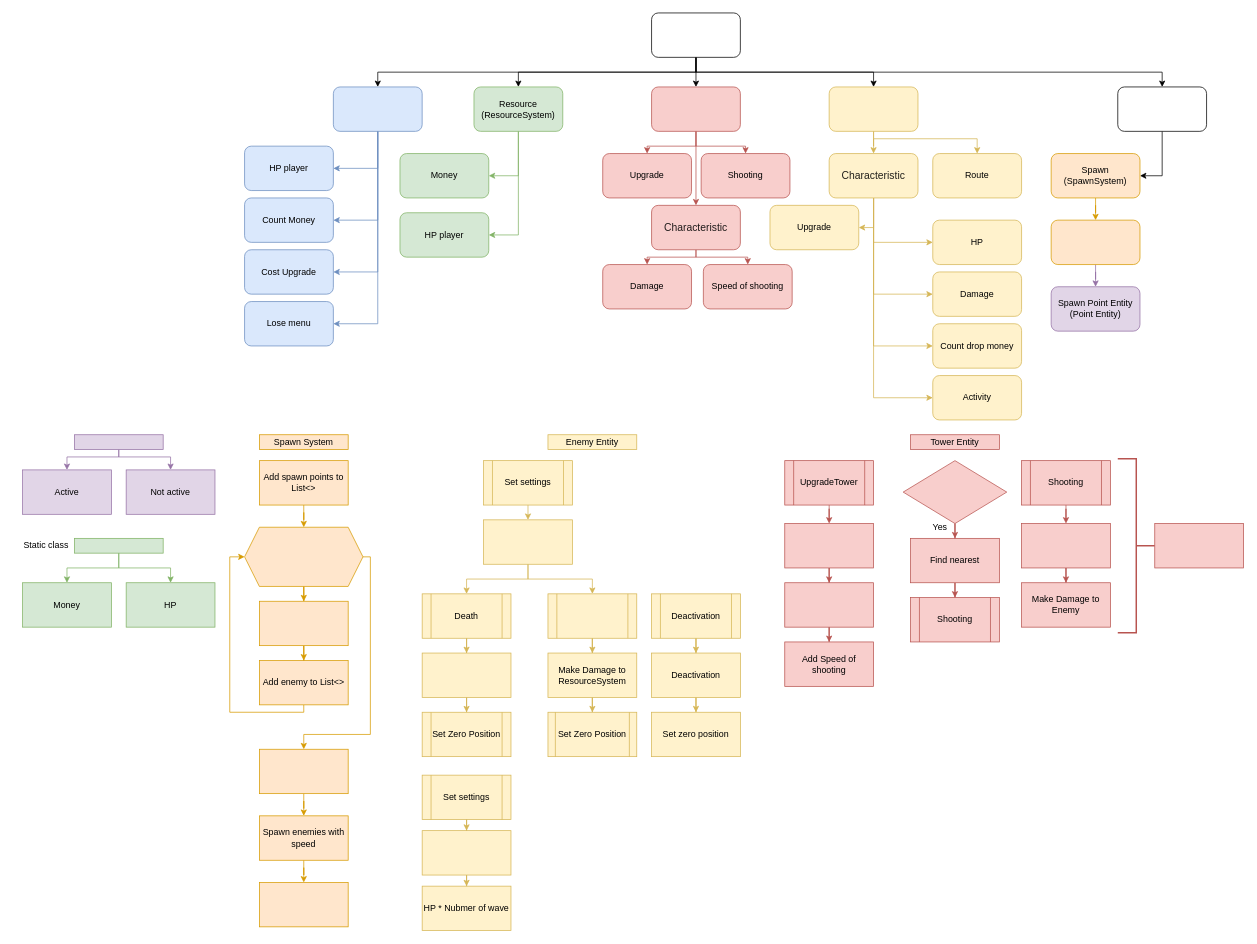
The diagram is 1257 pixels wide and 944 high, and some of its shapes have lost their labels. Each missing label, with the centre of its shape:
"Activate some spawn points" belongs at point (303, 771).
"Activation enemy" belongs at point (303, 904).
"Add Damage" belongs at point (829, 604).
"Add Money to ResourceSystem" belongs at point (466, 674).
"Add N enemies" belongs at point (303, 556).
"Animation shoot" belongs at point (1065, 545).
"Check Money" belongs at point (829, 545).
"Damage * Nubmer of wave" belongs at point (466, 852).
"DamagePlayer" belongs at point (592, 615).
"Enemy (EnemyEntity)" belongs at point (873, 108).
"GameController" belongs at point (1162, 108).
"Ienumerator with Speed of shooting" belongs at point (1199, 545).
"Point Entity" belongs at point (118, 442).
"Resource System" belongs at point (118, 545).
"Set destination" belongs at point (527, 541).
"Set zero positoin for enemy" belongs at point (303, 623).
"Speed Spawn" belongs at point (1095, 242).
"There is an enemy in the area" belongs at point (954, 492).
"TowerDefence" belongs at point (695, 34).
"Towers (TowerEntity)" belongs at point (695, 108).
"UI" belongs at point (377, 108).
